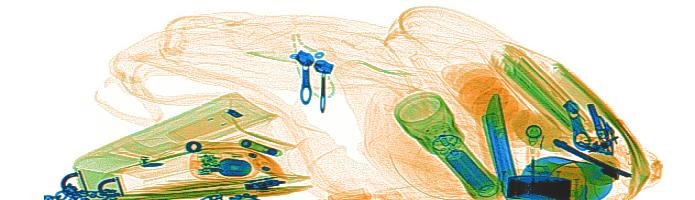battery: (444, 148, 495, 196), (216, 156, 252, 177)
knife: (473, 86, 521, 197)
